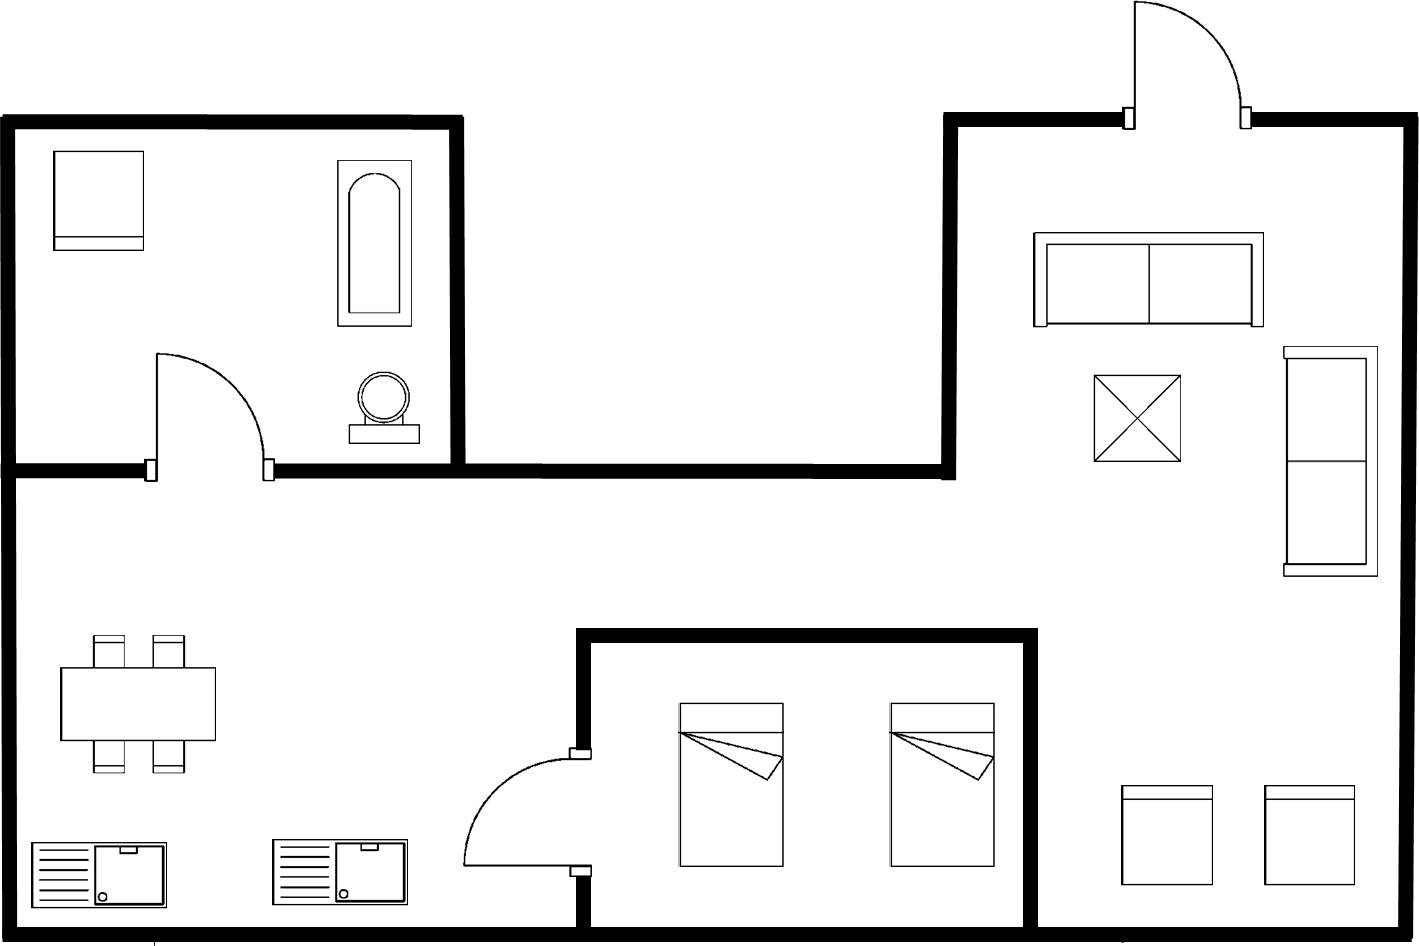bed: (882, 695, 1001, 874), (673, 695, 791, 872)
coffee_table: (1085, 366, 1187, 469)
dining_table: (54, 627, 223, 780)
large_sink: (344, 364, 426, 452)
large_sofa: (1026, 224, 1271, 336), (1279, 340, 1385, 584)
sink: (24, 832, 175, 916), (266, 834, 414, 912)
small_sofa: (1115, 778, 1218, 891), (1257, 778, 1360, 892), (49, 145, 151, 258)
tub: (329, 154, 419, 332)
